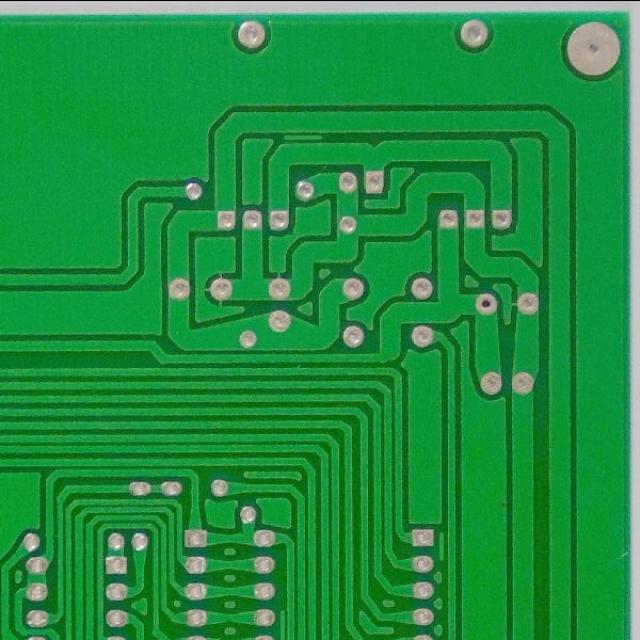Missing_Hole: (474, 291, 499, 316)
Spurious_Cooper: (280, 131, 326, 143), (437, 528, 447, 563)
